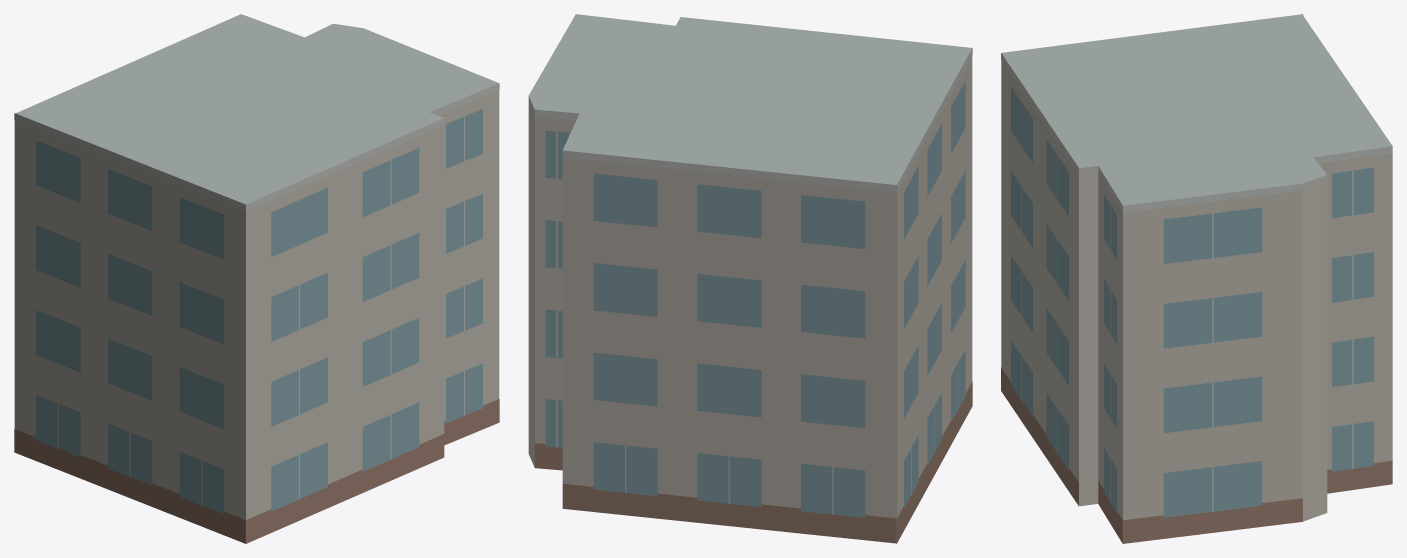
The model's file is survey-upis-32920255.glb.
The picture shows the model from 3 angles, left to right: view 1: azimuth 30°, elevation 25°; view 2: azimuth 150°, elevation 25°; view 3: azimuth 270°, elevation 25°; orthographic projection. The views are drawn at different scales.
Visible parts, largest first — view 1: survey-upis-32920255.tmp; view 2: survey-upis-32920255.tmp; view 3: survey-upis-32920255.tmp.
Boxes of the visible parts, x1,y1,x2,y2 form: survey-upis-32920255.tmp: [14, 14, 499, 543]; survey-upis-32920255.tmp: [528, 14, 972, 543]; survey-upis-32920255.tmp: [1001, 14, 1392, 543].
Bounding box in the file's own units: 14.48 × 11.9 × 12.5.
